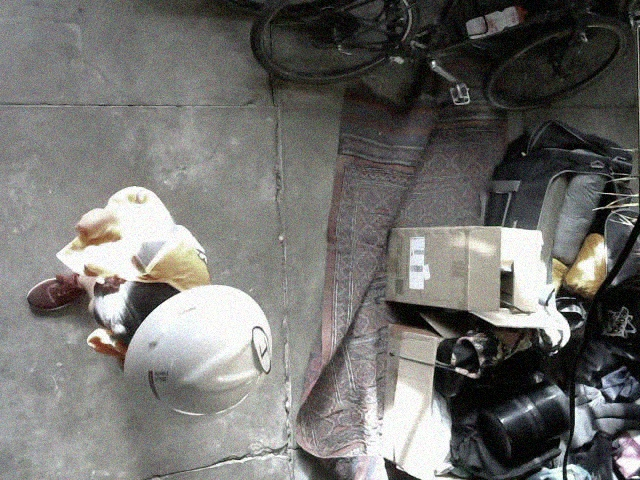one: (251, 324, 270, 372)
